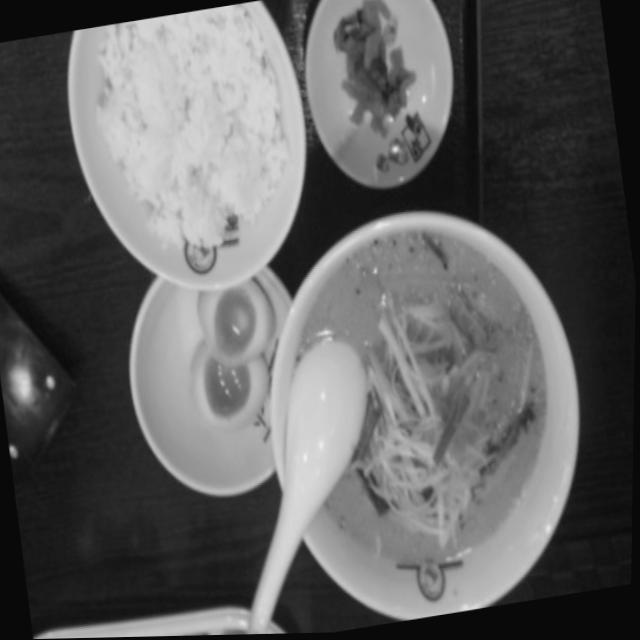米饭主食: (48, 0, 334, 317)
面条主食: (237, 184, 614, 636)
